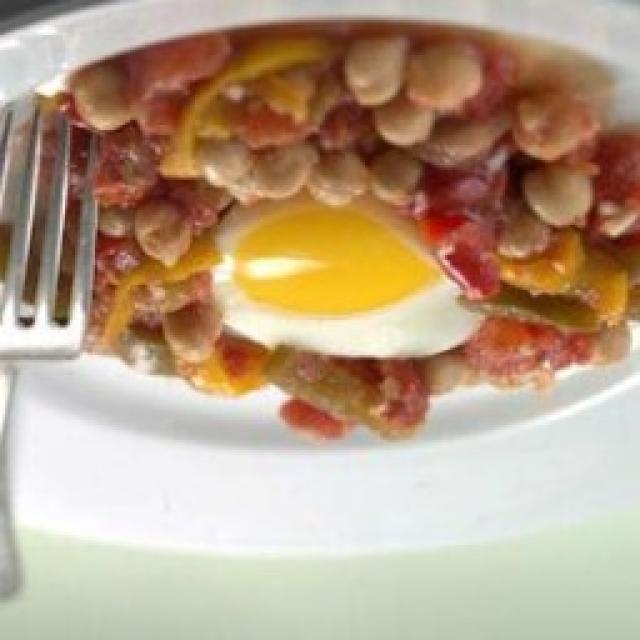Lablabi: (64, 24, 640, 441)
